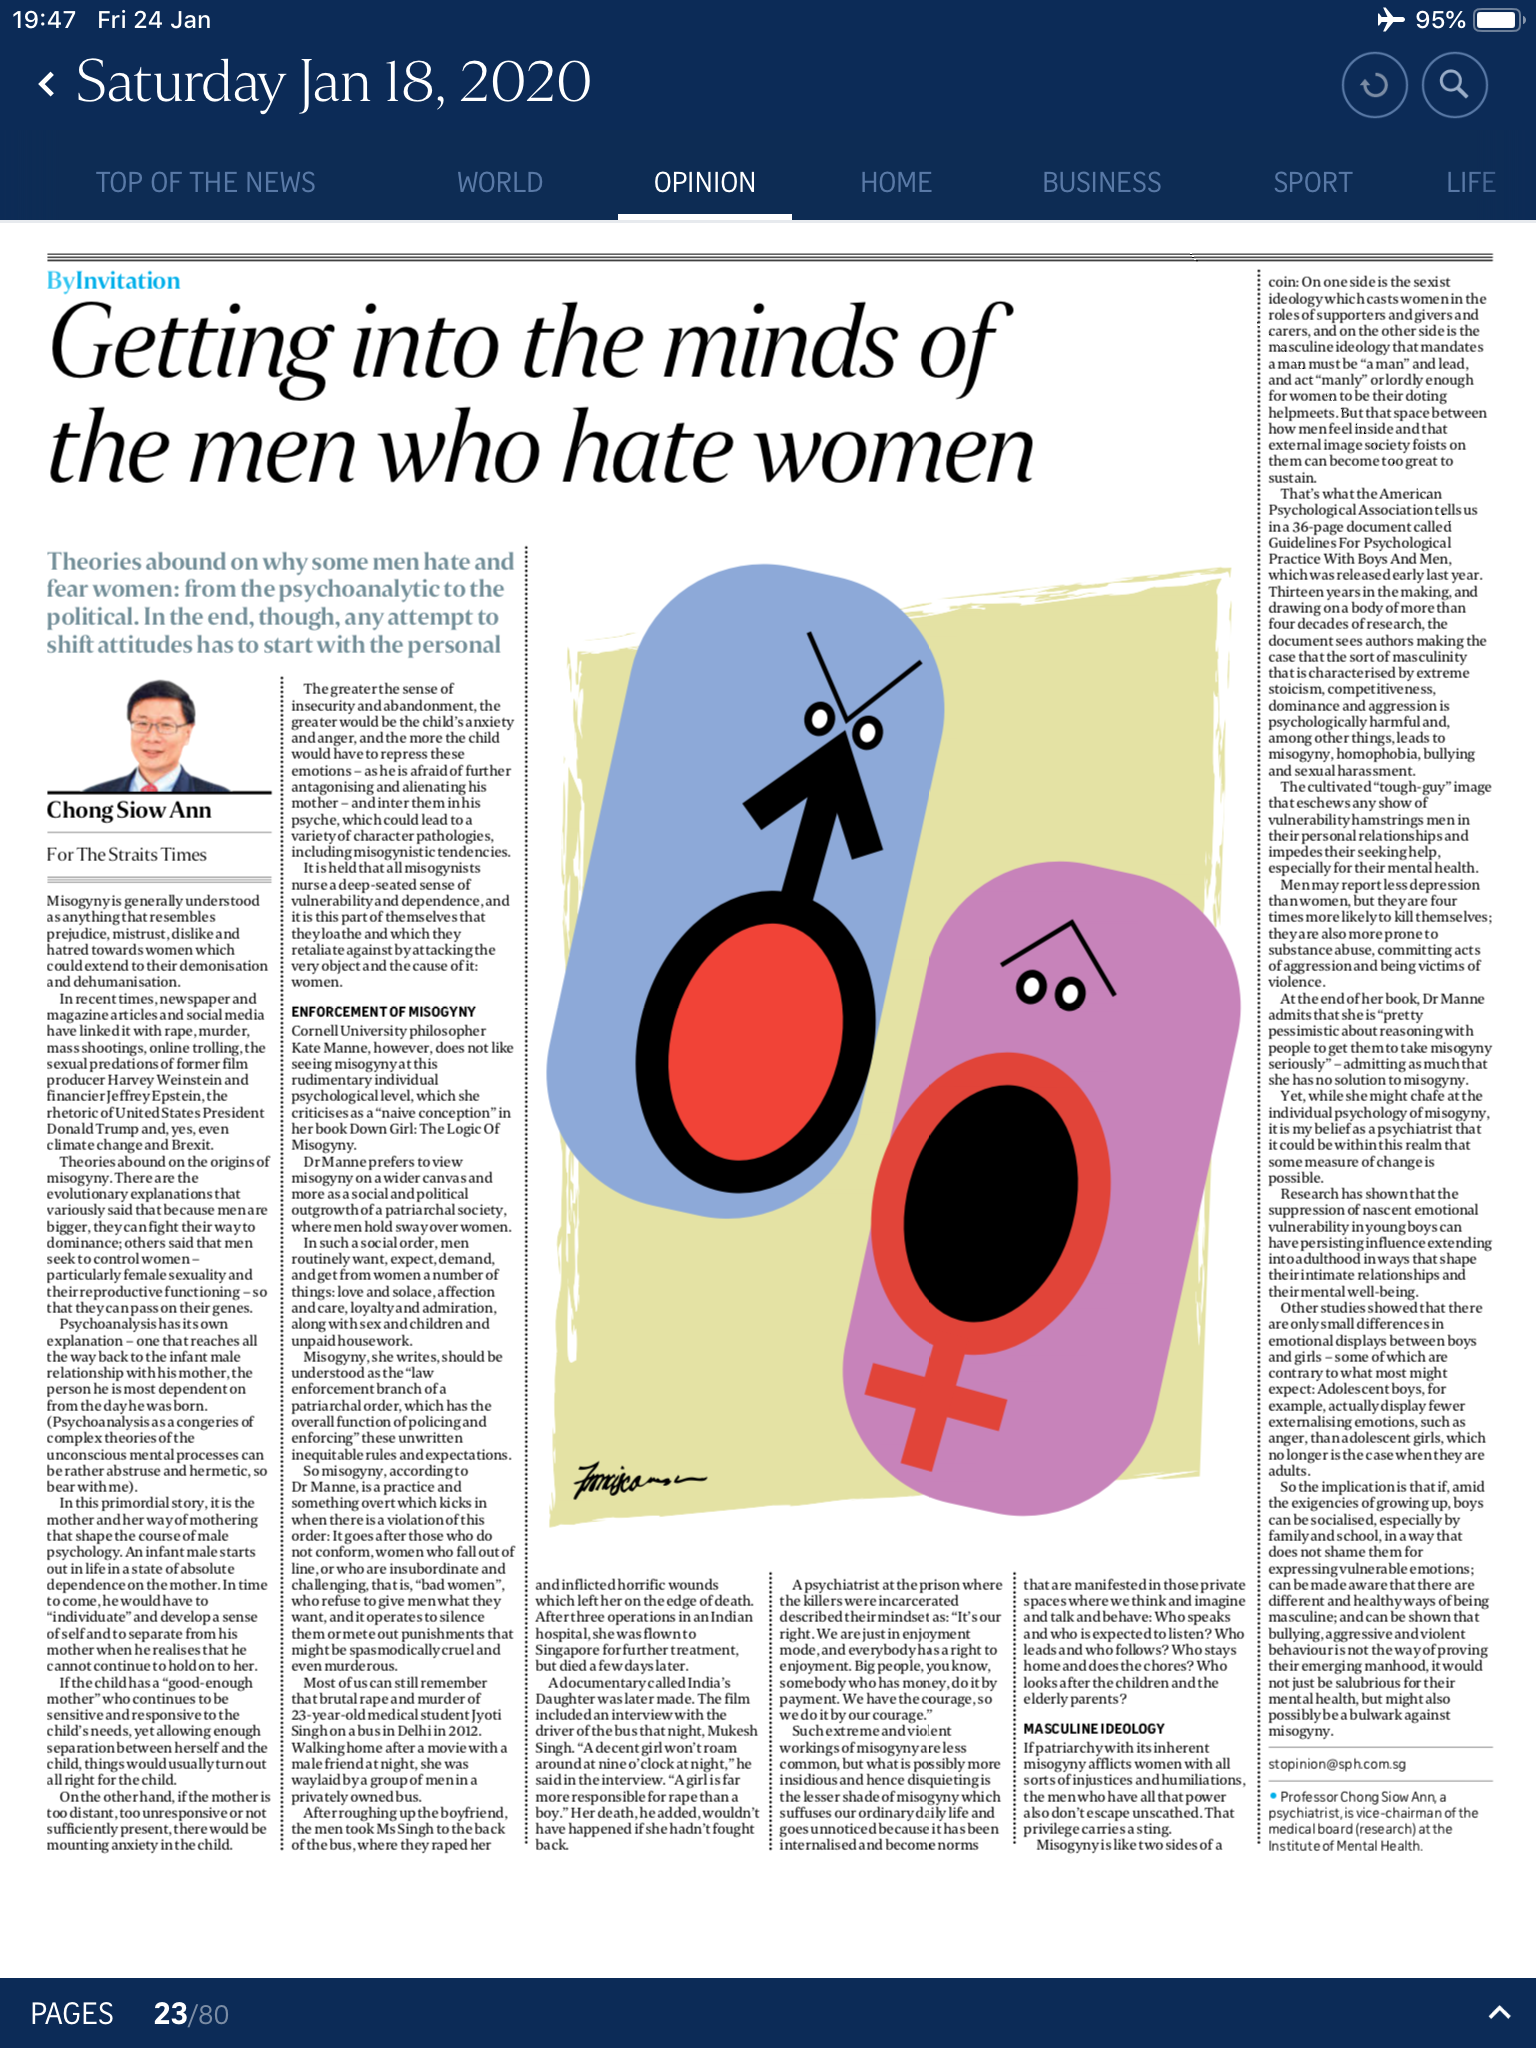Headline: (27, 293, 1055, 500)
